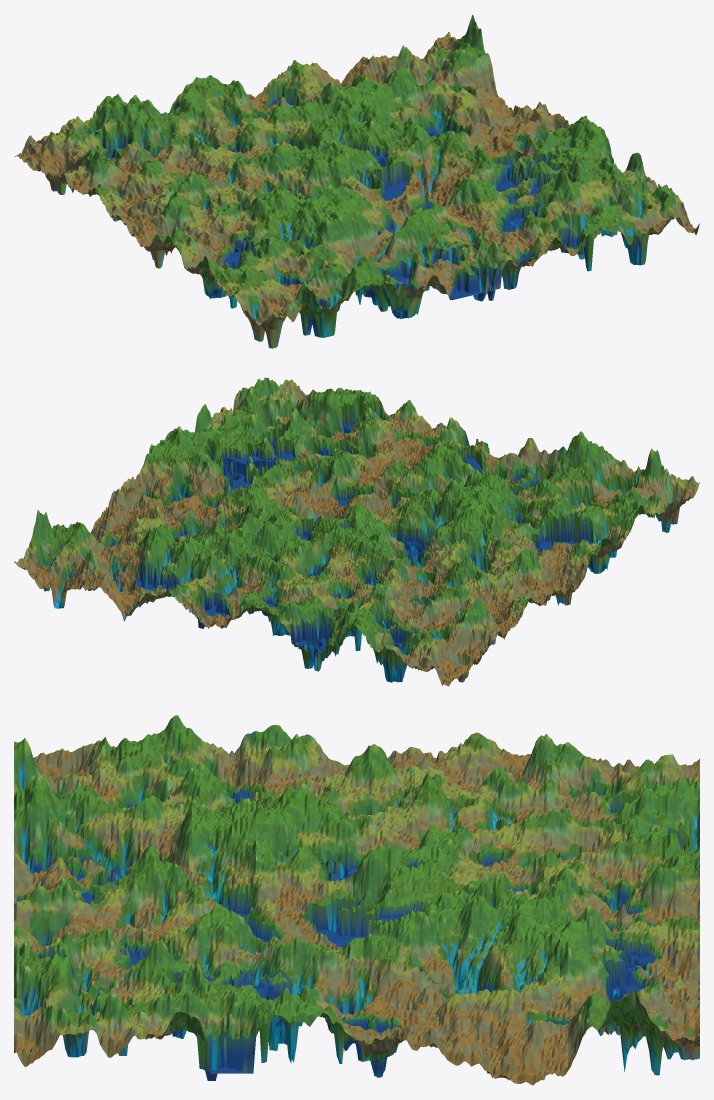
Rendered from landscape_MOUNTAIN.obj.
3 views of the same model, one above another, from view 1: azimuth 30°, elevation 25°; view 2: azimuth 150°, elevation 25°; view 3: azimuth 270°, elevation 25° (orthographic). The views are drawn at different scales.
Parts seen in each view (by area): view 1: terrain_MOUNTAIN; view 2: terrain_MOUNTAIN; view 3: terrain_MOUNTAIN.
Part boxes in pixels (bbox=[...]): terrain_MOUNTAIN: bbox=[14, 14, 699, 348]; terrain_MOUNTAIN: bbox=[14, 377, 699, 686]; terrain_MOUNTAIN: bbox=[14, 715, 699, 1085].
Size of the model in its own units: 255 by 39.8 by 255.
Materials: 1 (1 with a texture image).
